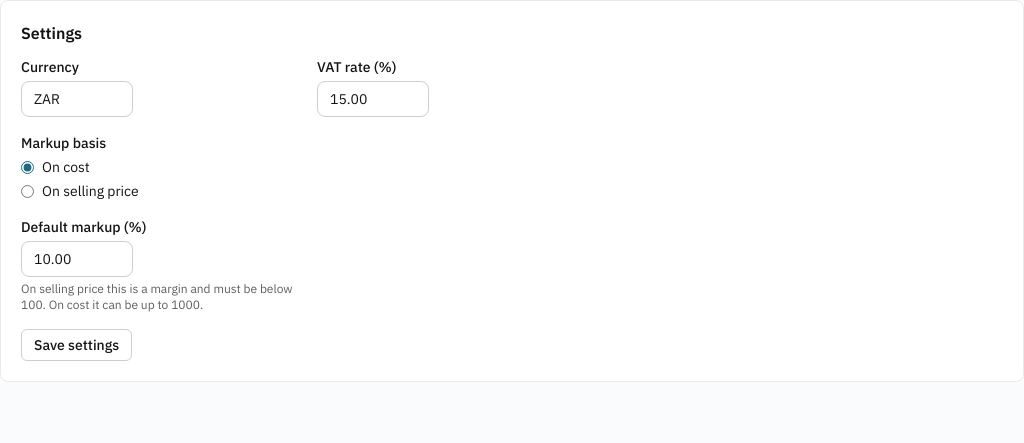
Test case: SettingsCard › sends nothing when Default markup (%) is abc
Replace the text in the field labelled "Default markup (%)" with "abc" at (77, 259), box [21,241,133,277]
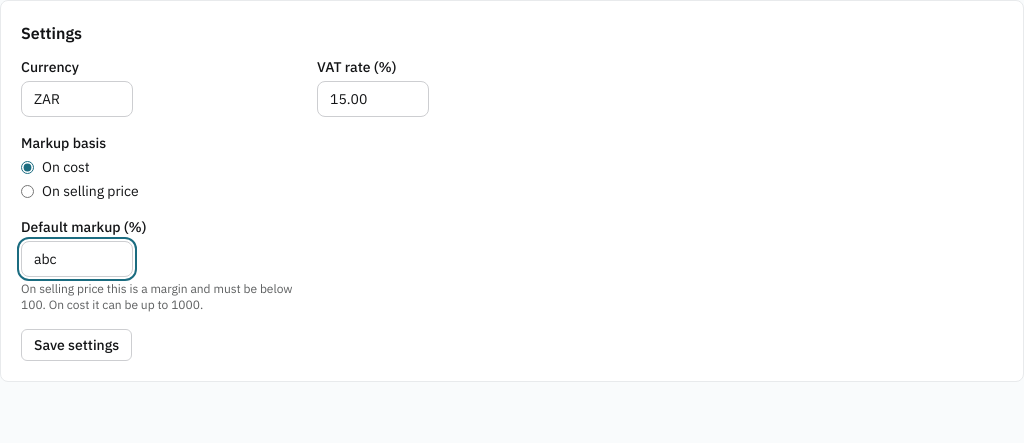
Click the button "Save settings".
click(77, 345)  # box [21,329,132,361]
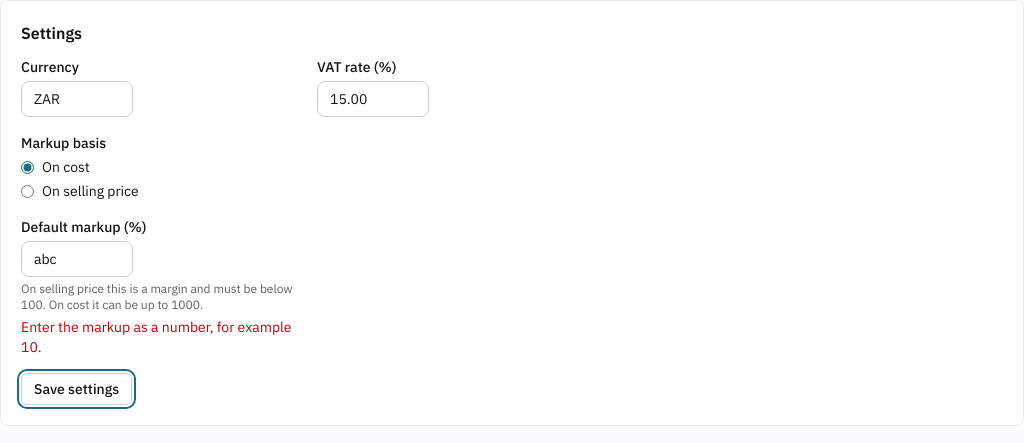
Check: the text "Enter the markup as a number, for example 10." is shown, box [21,317,301,357]
